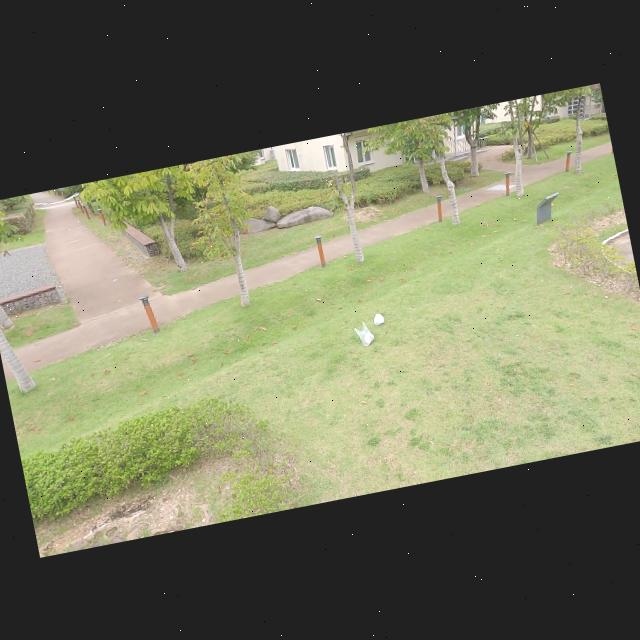trash: (350, 317, 377, 349), (370, 310, 388, 327)
